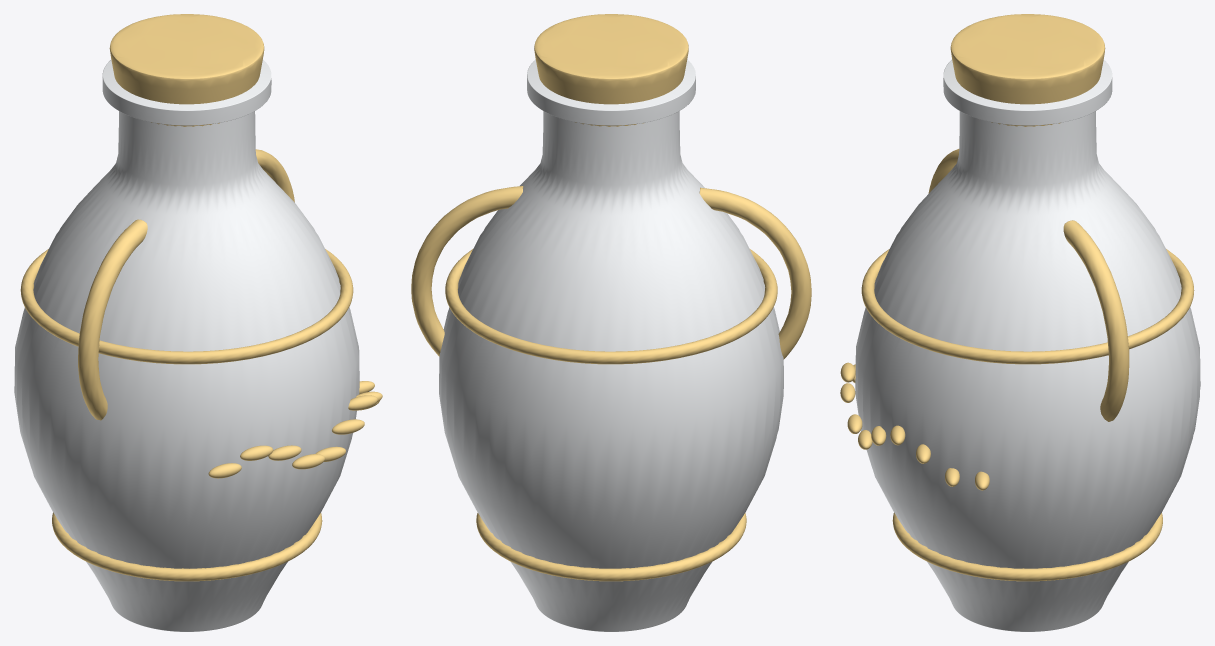
The model's file is goldenambrosia.glb.
The picture shows the model from 3 angles, left to right: view 1: azimuth 30°, elevation 25°; view 2: azimuth 150°, elevation 25°; view 3: azimuth 270°, elevation 25°; orthographic projection.
Parts seen in each view (by area): view 1: GoldenAmbrosia_Glass, GoldenAmbrosia_Cork, GoldenAmbrosia_GoldBand.001, GoldenAmbrosia_Handle.001, GoldenAmbrosia_GoldBand, GoldenAmbrosia_Handle; view 2: GoldenAmbrosia_Glass, GoldenAmbrosia_Cork, GoldenAmbrosia_GoldBand.001, GoldenAmbrosia_Handle.001, GoldenAmbrosia_Handle, GoldenAmbrosia_GoldBand; view 3: GoldenAmbrosia_Glass, GoldenAmbrosia_Cork, GoldenAmbrosia_GoldBand.001, GoldenAmbrosia_Handle, GoldenAmbrosia_GoldBand, GoldenAmbrosia_Handle.001.
Boxes of the visible parts, x1=… form: GoldenAmbrosia_Glass: x1=14, y1=59, x2=359, y2=631; GoldenAmbrosia_Cork: x1=109, y1=14, x2=264, y2=126; GoldenAmbrosia_GoldBand.001: x1=20, y1=249, x2=353, y2=364; GoldenAmbrosia_Handle.001: x1=78, y1=219, x2=147, y2=420; GoldenAmbrosia_GoldBand: x1=52, y1=512, x2=322, y2=581; GoldenAmbrosia_Handle: x1=255, y1=149, x2=294, y2=202; GoldenAmbrosia_Glass: x1=439, y1=60, x2=783, y2=631; GoldenAmbrosia_Cork: x1=534, y1=14, x2=688, y2=126; GoldenAmbrosia_GoldBand.001: x1=445, y1=249, x2=777, y2=364; GoldenAmbrosia_Handle.001: x1=699, y1=187, x2=811, y2=359; GoldenAmbrosia_Handle: x1=411, y1=186, x2=523, y2=356; GoldenAmbrosia_GoldBand: x1=476, y1=513, x2=746, y2=581; GoldenAmbrosia_Glass: x1=855, y1=59, x2=1200, y2=631; GoldenAmbrosia_Cork: x1=950, y1=14, x2=1105, y2=126; GoldenAmbrosia_GoldBand.001: x1=861, y1=249, x2=1194, y2=364; GoldenAmbrosia_Handle: x1=1063, y1=220, x2=1129, y2=421; GoldenAmbrosia_GoldBand: x1=892, y1=512, x2=1162, y2=581; GoldenAmbrosia_Handle.001: x1=928, y1=149, x2=959, y2=193.
Size of the model in its own units: 1.34 by 2.24 by 1.32.
